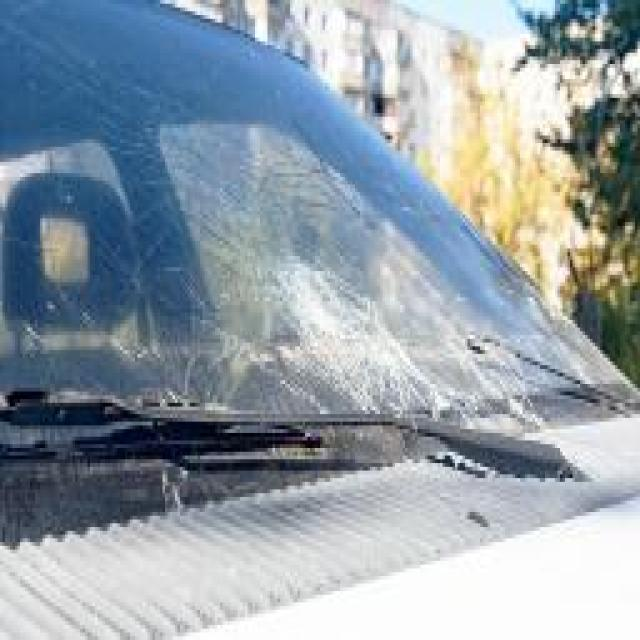Windshield: (0, 0, 640, 550)
